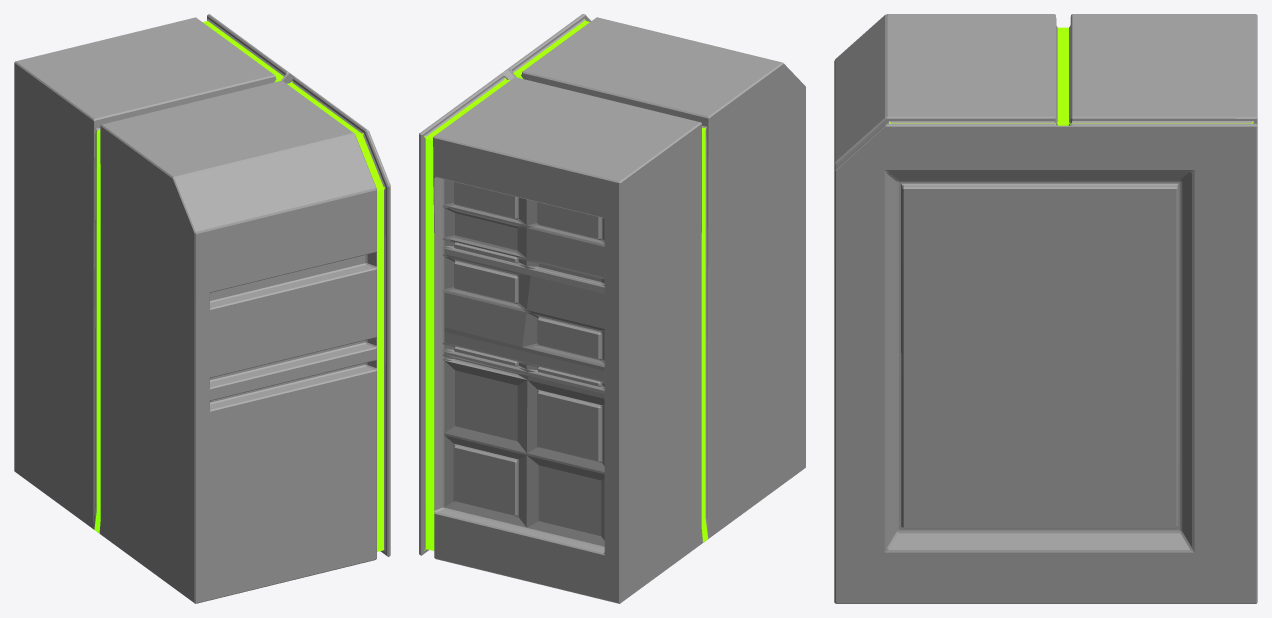
Rendered from server.gltf.
The picture shows the model from 3 angles, left to right: view 1: azimuth 30°, elevation 25°; view 2: azimuth 150°, elevation 25°; view 3: azimuth 270°, elevation 25°; orthographic projection. The views are drawn at different scales.
Parts seen in each view (by area): view 1: Server; view 2: Server; view 3: Server.
Part boxes in pixels (<box>): Server: <box>14,14,390,603</box>; Server: <box>419,14,805,603</box>; Server: <box>834,14,1257,603</box>.
Size of the model in its own units: 1 by 2 by 1.6.
